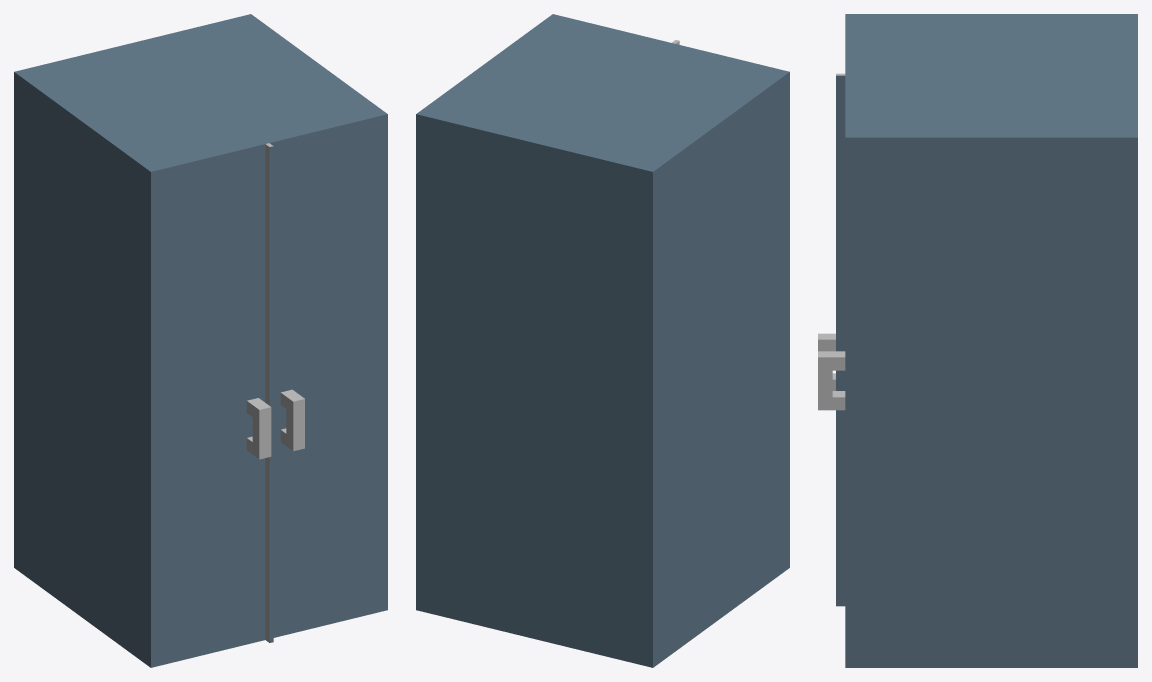
File: Locker.fbx
The picture shows the model from 3 angles, left to right: view 1: azimuth 30°, elevation 25°; view 2: azimuth 150°, elevation 25°; view 3: azimuth 270°, elevation 25°; orthographic projection. The views are drawn at different scales.
Visible parts, largest first — view 1: Locker; view 2: Locker; view 3: Locker.
Part boxes in pixels (x1,y1,x2,y2): Locker: [14, 14, 387, 667]; Locker: [416, 14, 789, 667]; Locker: [818, 14, 1137, 667].
Bounding box in the file's own units: 200 × 400 × 219.
